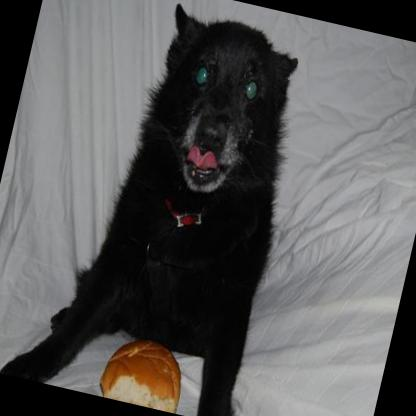schipperke: (0, 0, 325, 416)
